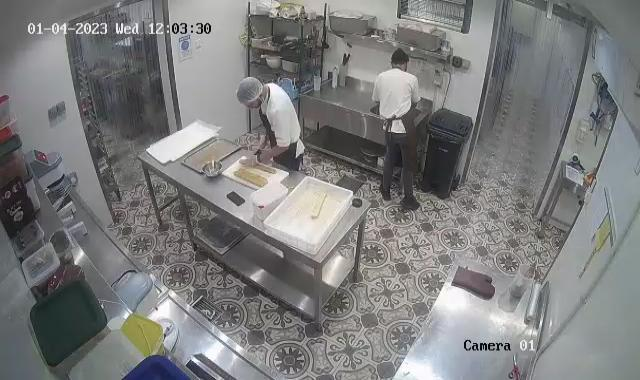hairnet: (236, 74, 265, 106)
no_hairnet: (388, 44, 412, 70)
